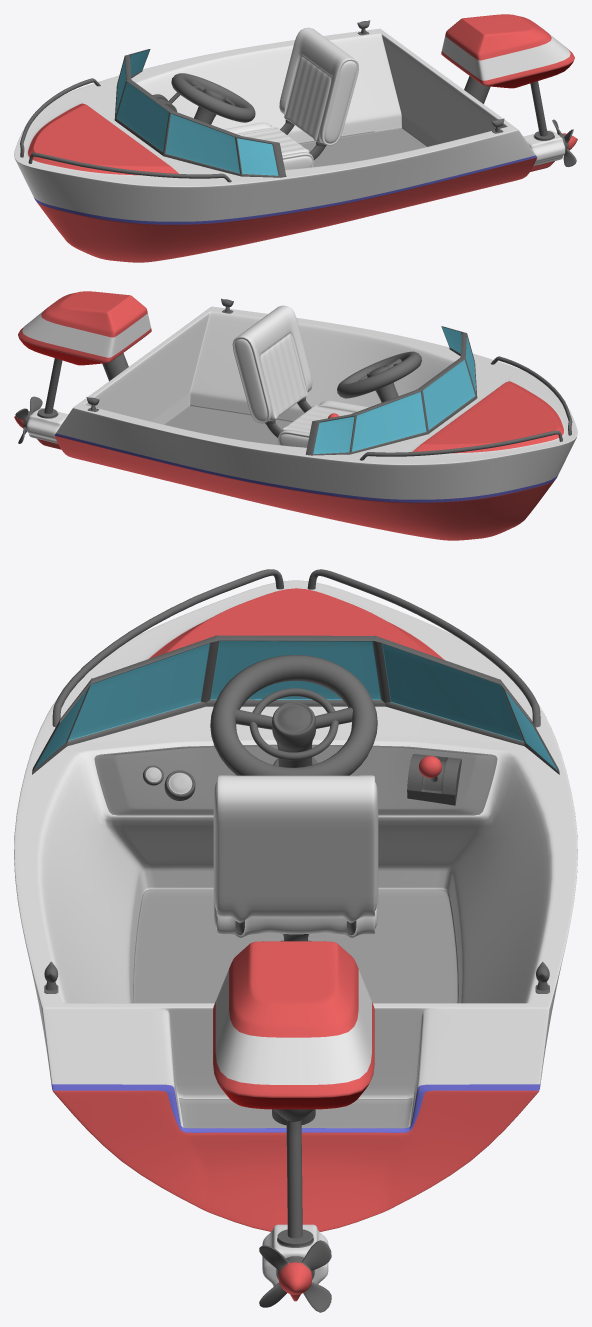
The model's file is Boat_Unity_test5.fbx.
The picture shows the model from 3 angles, top to bottom: view 1: azimuth 30°, elevation 25°; view 2: azimuth 150°, elevation 25°; view 3: azimuth 270°, elevation 25°; orthographic projection. The views are drawn at different scales.
Visible parts, largest first — view 1: Boat_Wheel_Frame1; view 2: Boat_Wheel_Frame1; view 3: Boat_Wheel_Frame1.
Boxes of the visible parts, x1,y1,x2,y2 form: Boat_Wheel_Frame1: (14,14,577,262); Boat_Wheel_Frame1: (14,291,577,540); Boat_Wheel_Frame1: (14,569,577,1312).
Size of the model in its own units: 547 by 166 by 260.
